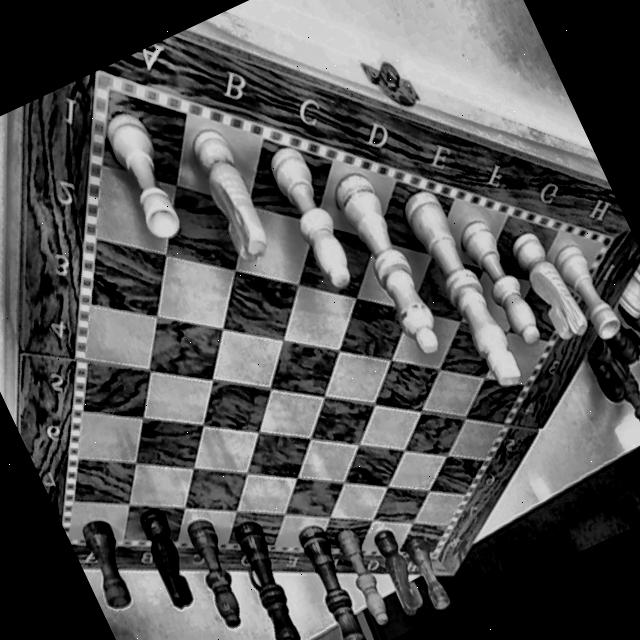black-bishop: (169, 499, 266, 640), (322, 510, 402, 636)
black-king: (279, 505, 379, 640)
black-knight: (124, 502, 203, 616), (364, 520, 434, 622)
black-queen: (214, 494, 324, 640)
black-rook: (54, 479, 154, 624), (399, 526, 466, 618)
white-bishop: (246, 106, 375, 312), (450, 189, 553, 352)
white-king: (390, 155, 540, 415)
white-knight: (175, 101, 289, 278), (506, 214, 596, 354)
white-queen: (311, 126, 466, 374)
white-rook: (86, 99, 206, 258), (550, 227, 630, 344)
